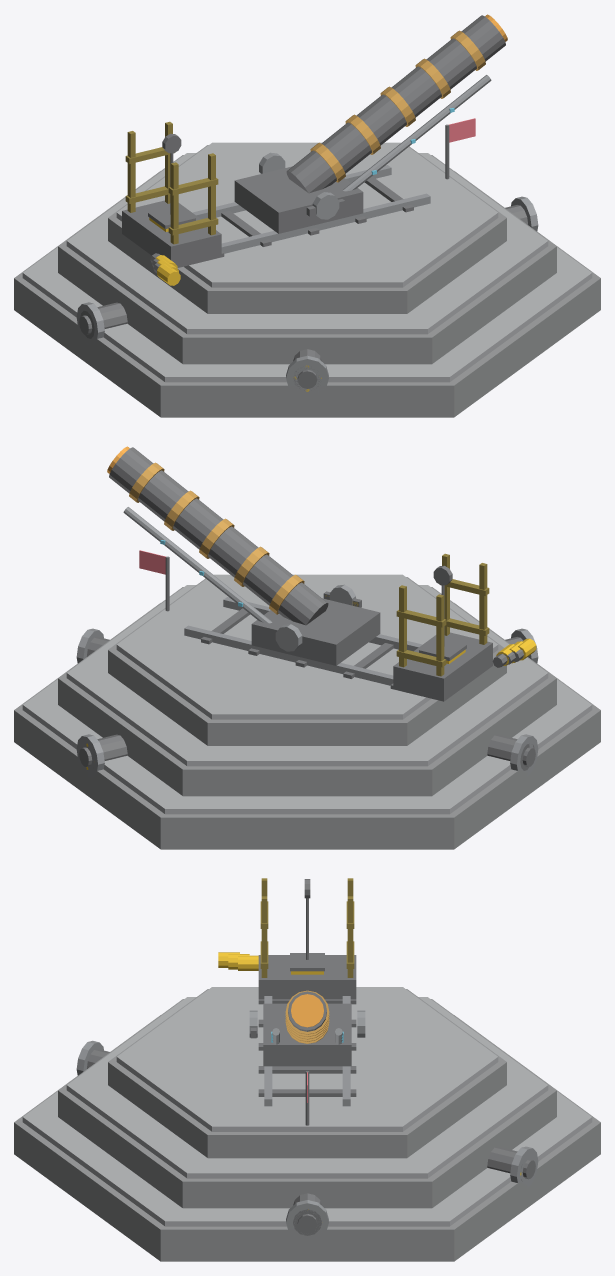
Rendered from howitzer_s2_100.glb.
3 views of the same model, one above another, from view 1: azimuth 30°, elevation 25°; view 2: azimuth 150°, elevation 25°; view 3: azimuth 270°, elevation 25° (orthographic).
Parts seen in each view (by area): view 1: Howitzer_s2; view 2: Howitzer_s2; view 3: Howitzer_s2.
Boxes of the visible parts, left/top/right/bottom form: Howitzer_s2: left=14, top=14, right=600, bottom=417; Howitzer_s2: left=14, top=446, right=600, bottom=849; Howitzer_s2: left=14, top=878, right=600, bottom=1261.
Bounding box in the file's own units: 5.28 × 2.82 × 6.
